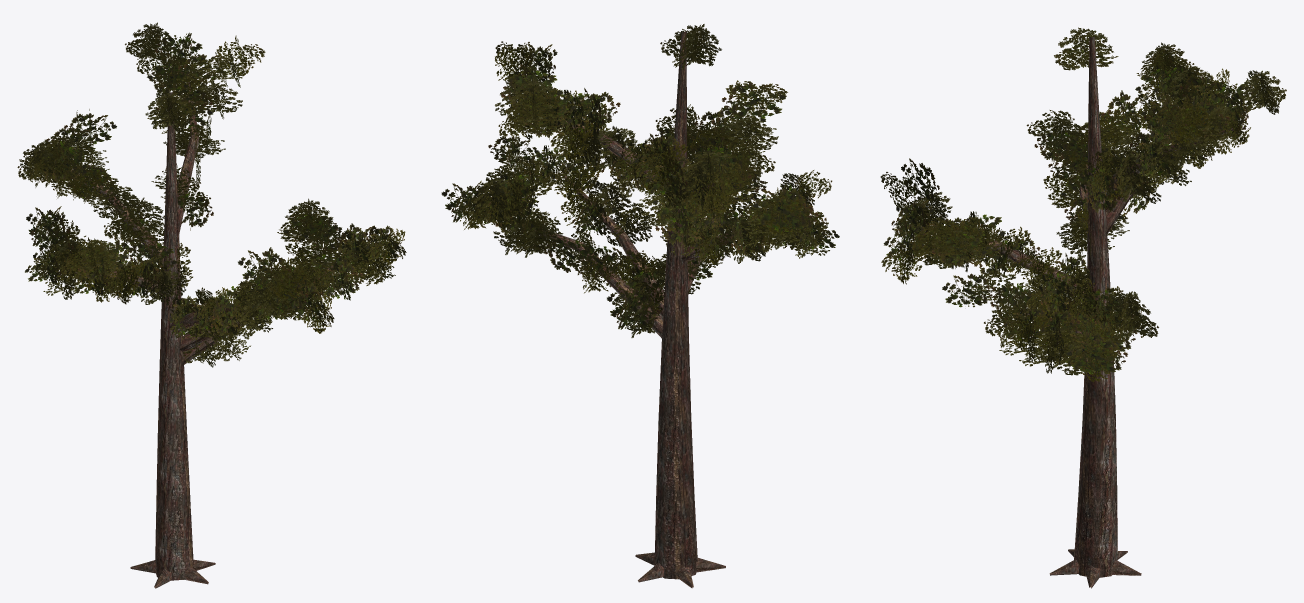
File: tree_3d_01_lod1.glb
The picture shows the model from 3 angles, left to right: view 1: azimuth 30°, elevation 25°; view 2: azimuth 150°, elevation 25°; view 3: azimuth 270°, elevation 25°; orthographic projection. The views are drawn at different scales.
Parts seen in each view (by area): view 1: foliage_cards, wood_geometry; view 2: foliage_cards, wood_geometry; view 3: foliage_cards, wood_geometry.
Boxes of the visible parts, x1,y1,x2,y2 form: foliage_cards: (17, 22, 406, 367); wood_geometry: (66, 78, 333, 588); foliage_cards: (441, 24, 839, 337); wood_geometry: (514, 31, 804, 588); foliage_cards: (880, 27, 1286, 382); wood_geometry: (918, 36, 1233, 588).
Bounding box in the file's own units: 7.11 × 9.14 × 6.44.
Materials: 2 (2 with a texture image).
